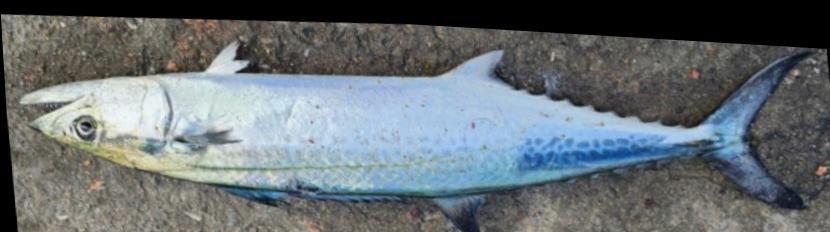fish: (16, 37, 813, 232)
